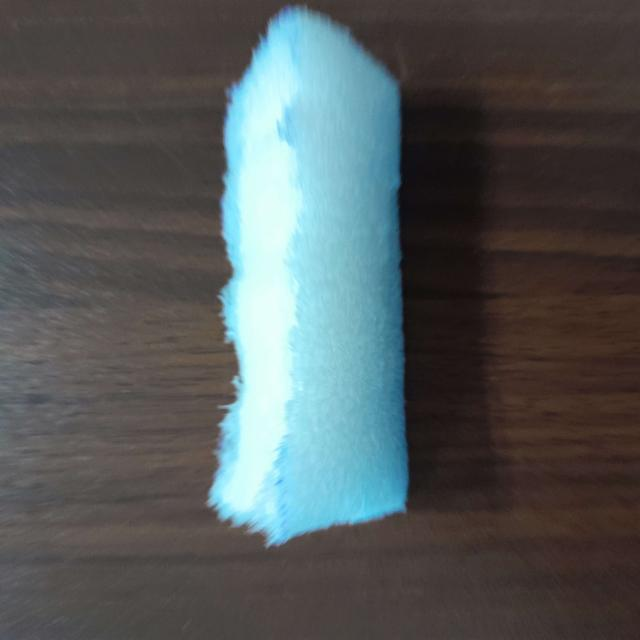engine: (214, 10, 412, 538)
